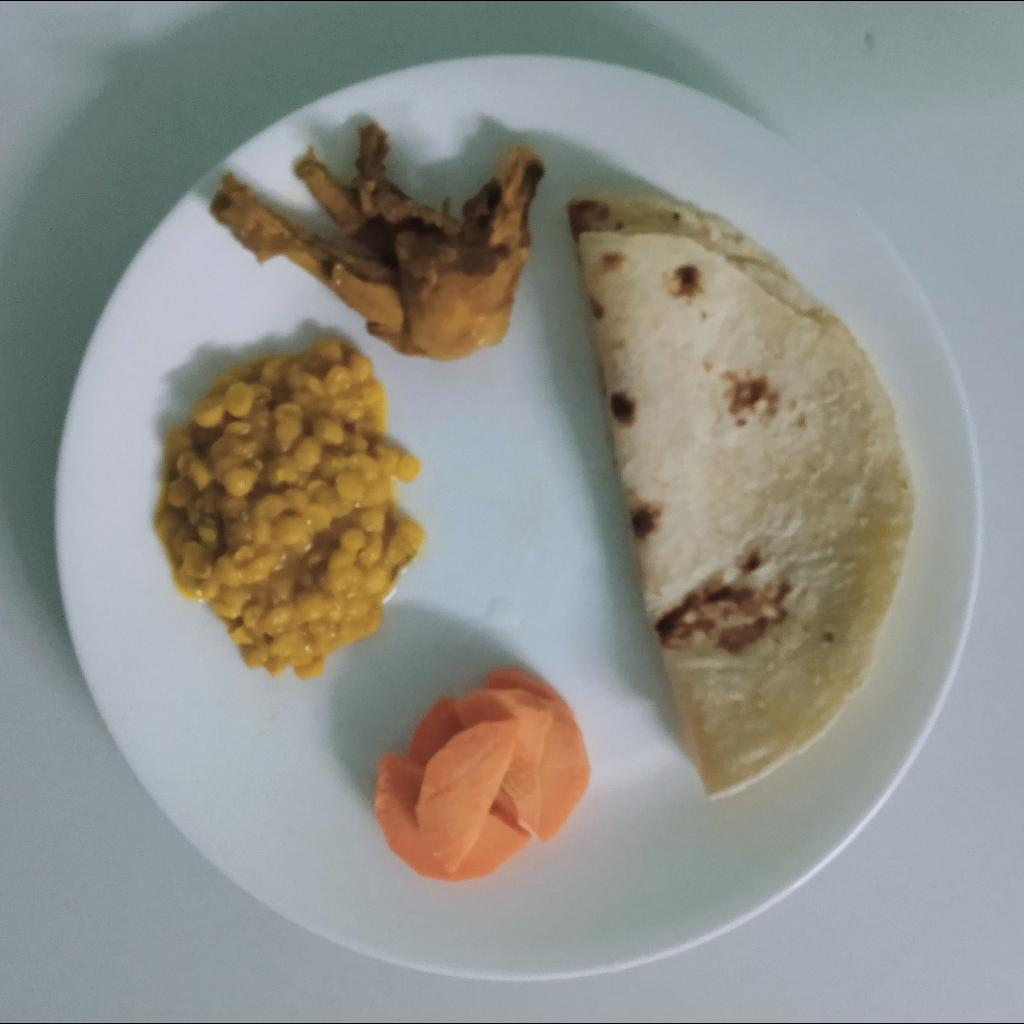carrot: (375, 666, 591, 884)
chicken: (205, 124, 545, 361)
daal: (155, 339, 427, 679)
ruti: (565, 198, 918, 801)
